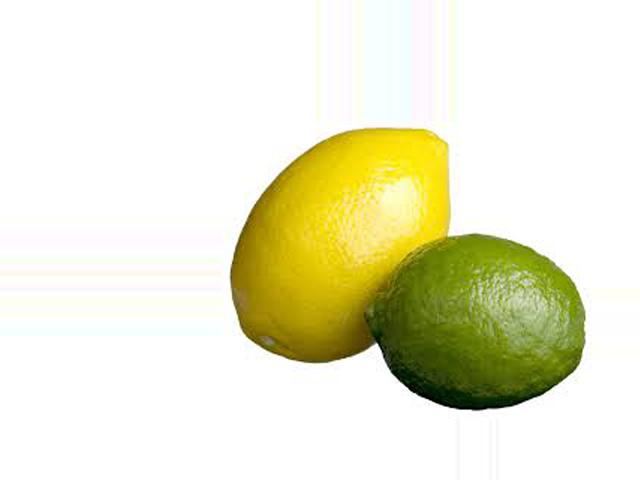lemon: (335, 199, 589, 420)
